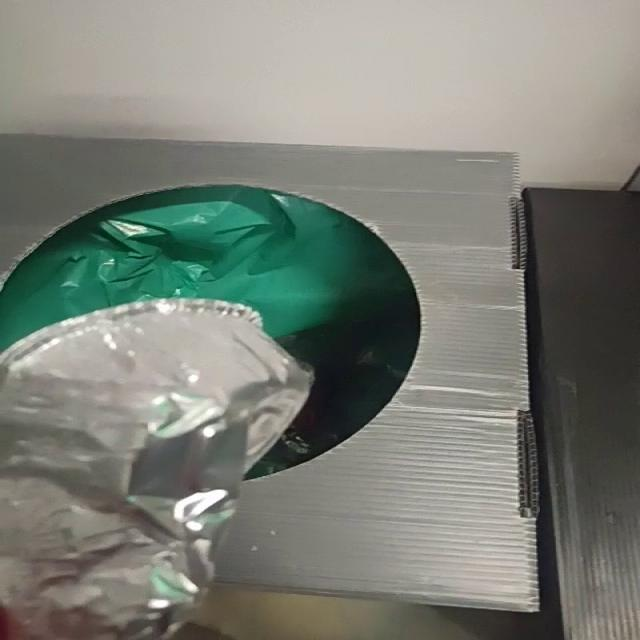bin: (1, 135, 539, 612)
metal: (1, 300, 312, 640)
